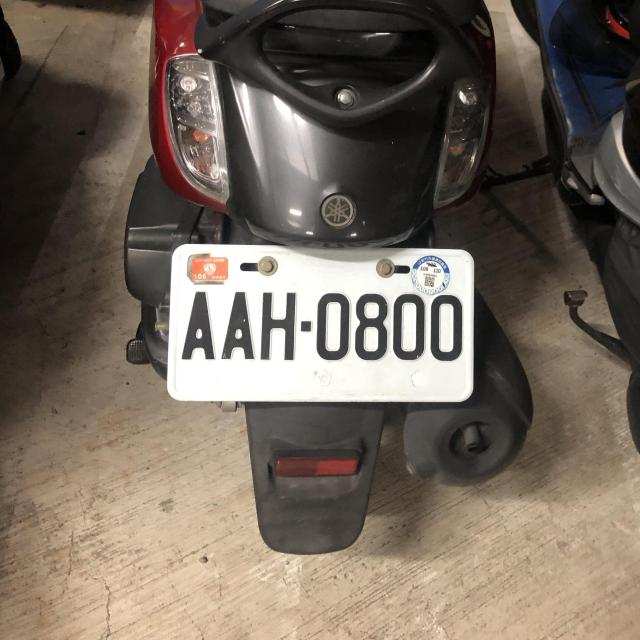W: (167, 238, 477, 405)
